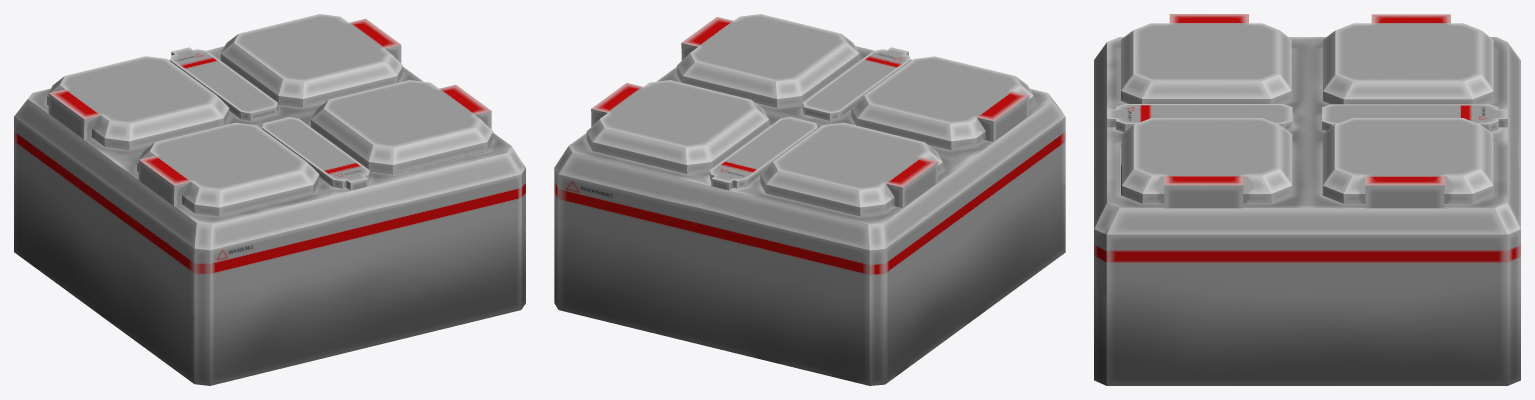
Rendered from vertical_launch_system_4_cell.fbx.
3 renders of one model, left to right at view 1: azimuth 30°, elevation 25°; view 2: azimuth 150°, elevation 25°; view 3: azimuth 270°, elevation 25°, orthographic. The views are drawn at different scales.
Visible parts, largest first — view 1: vls_body, vls_missile_door_4, vls_missile_door_2, vls_missile_door_3, vls_missile_door_1, vls_fire_door_2, vls_fire_door_1; view 2: vls_body, vls_missile_door_2, vls_missile_door_4, vls_missile_door_1, vls_missile_door_3, vls_fire_door_1, vls_fire_door_2; view 3: vls_body, vls_missile_door_2, vls_missile_door_4, vls_missile_door_1, vls_missile_door_3, vls_fire_door_2, vls_fire_door_1.
Boxes of the visible parts, x1,y1,x2,y2 form: vls_body: (14, 46, 525, 385); vls_missile_door_4: (310, 80, 493, 173); vls_missile_door_2: (220, 14, 402, 107); vls_missile_door_3: (137, 122, 319, 216); vls_missile_door_1: (47, 56, 229, 150); vls_fire_door_2: (262, 117, 369, 190); vls_fire_door_1: (170, 47, 277, 120); vls_body: (554, 46, 1065, 385); vls_missile_door_2: (586, 80, 769, 173); vls_missile_door_4: (677, 14, 859, 107); vls_missile_door_1: (760, 122, 942, 216); vls_missile_door_3: (851, 56, 1033, 150); vls_fire_door_1: (710, 116, 817, 190); vls_fire_door_2: (803, 47, 910, 120); vls_body: (1094, 37, 1520, 385); vls_missile_door_2: (1322, 118, 1493, 208); vls_missile_door_4: (1121, 118, 1292, 208); vls_missile_door_1: (1323, 14, 1493, 104); vls_missile_door_3: (1121, 14, 1291, 103); vls_fire_door_2: (1107, 104, 1292, 131); vls_fire_door_1: (1322, 104, 1507, 131).
Bounding box in the file's own units: 179 × 90.61 × 179.
Materials: 1 (1 with a texture image).
